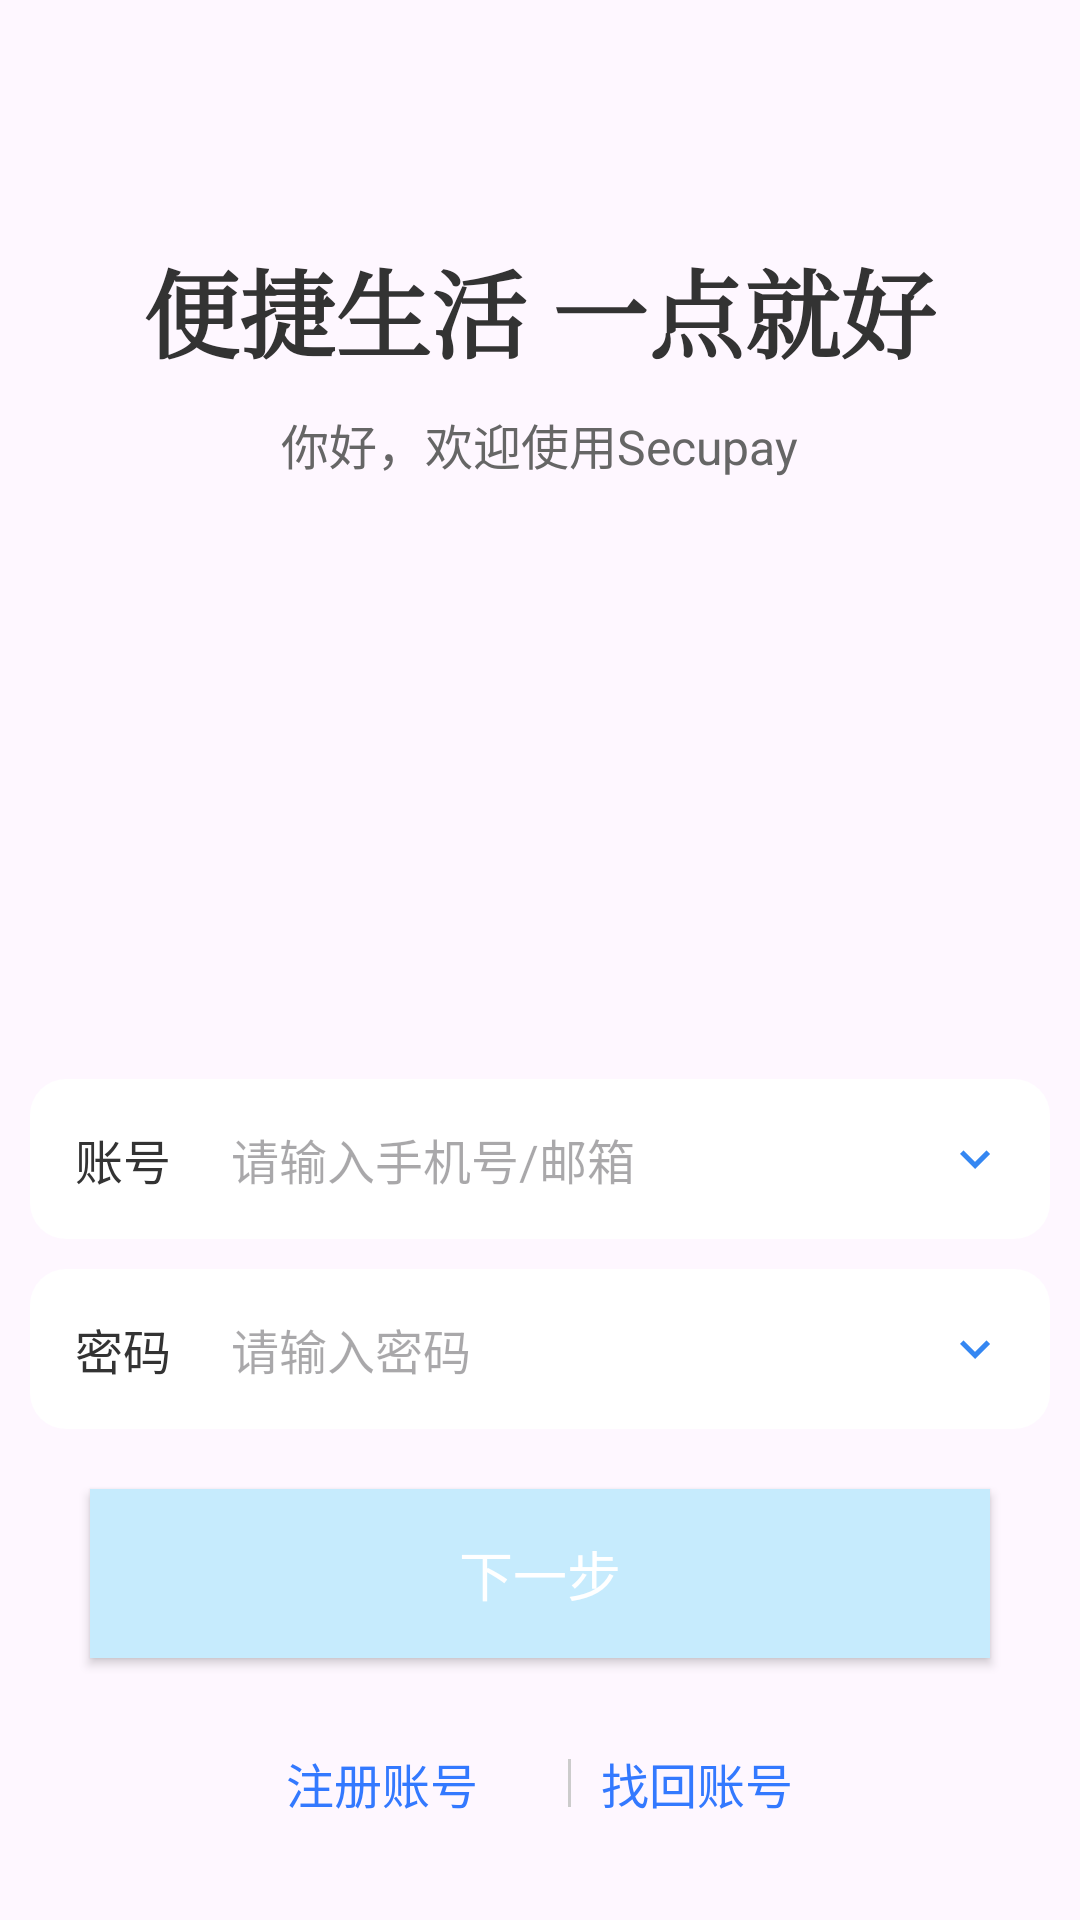

Icons on this 1080*1920 Android screen, each with the point to tap as (x=x, y=y):
down arrow: (x=975, y=1159), (x=975, y=1349)
